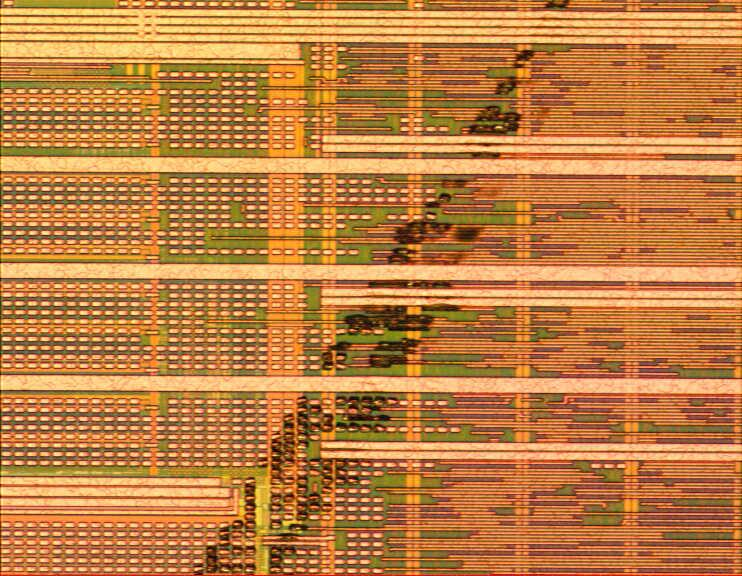SCRATCH: (177, 1, 578, 576)
